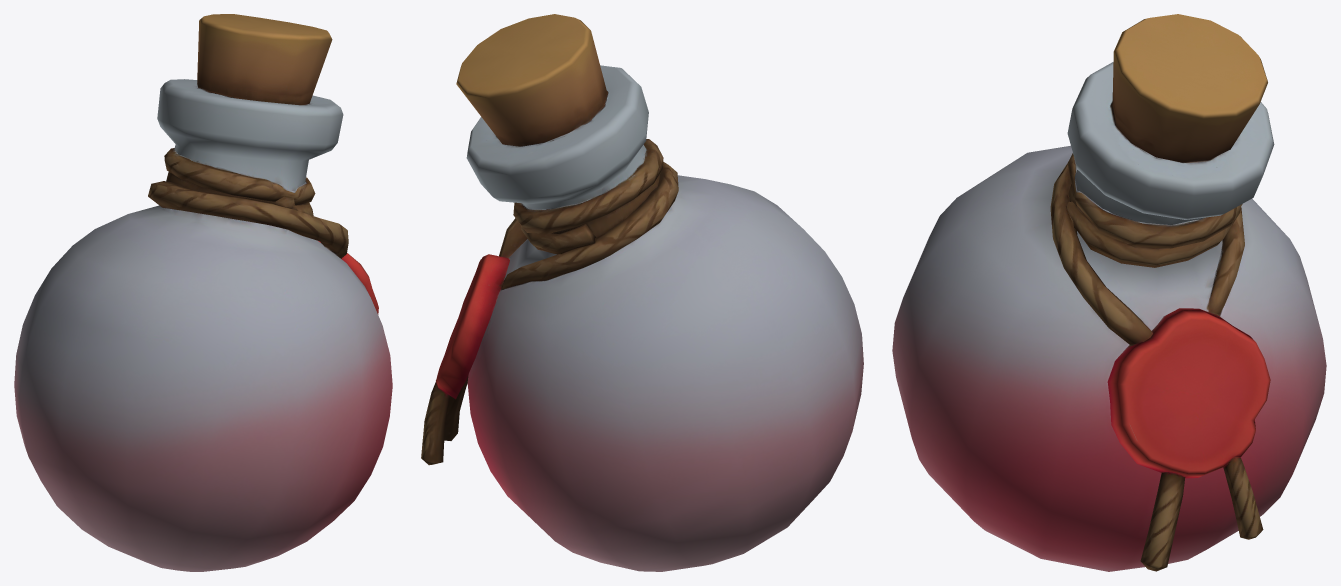
File: power_potion_tripo.glb
3 renders of one model, left to right at view 1: azimuth 30°, elevation 25°; view 2: azimuth 150°, elevation 25°; view 3: azimuth 270°, elevation 25°, orthographic. The views are drawn at different scales.
Visible parts, largest first — view 1: tripo_node_1fd08811-d005-4b26-a8e7-8b843e3b27bc; view 2: tripo_node_1fd08811-d005-4b26-a8e7-8b843e3b27bc; view 3: tripo_node_1fd08811-d005-4b26-a8e7-8b843e3b27bc.
Boxes of the visible parts, x1,y1,x2,y2 form: tripo_node_1fd08811-d005-4b26-a8e7-8b843e3b27bc: (14,14,392,571); tripo_node_1fd08811-d005-4b26-a8e7-8b843e3b27bc: (421,14,863,571); tripo_node_1fd08811-d005-4b26-a8e7-8b843e3b27bc: (892,14,1326,571).
Size of the model in its own units: 0.7598 by 0.998 by 0.6973.
Materials: 1 (1 with a texture image).
